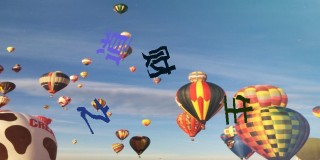之: (77, 98, 110, 134)
生: (223, 93, 253, 125)
财: (142, 45, 176, 79)
道: (96, 30, 133, 66)
